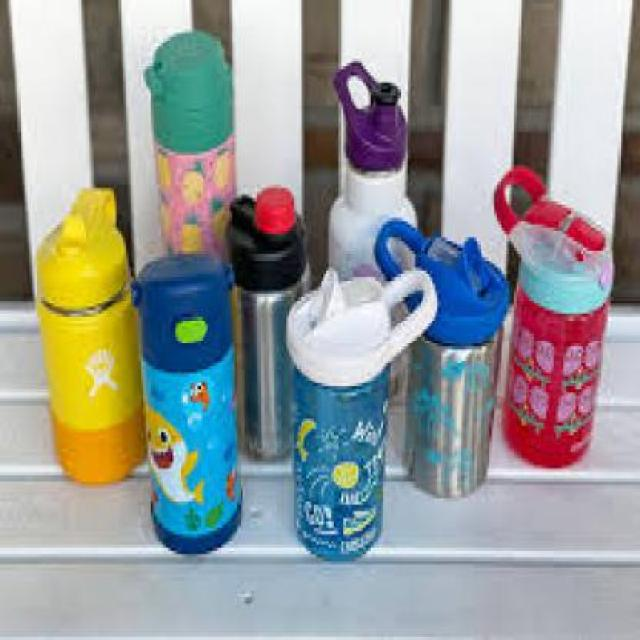Drinking: (495, 155, 613, 514), (29, 192, 143, 512), (292, 287, 390, 627), (156, 26, 242, 274)
